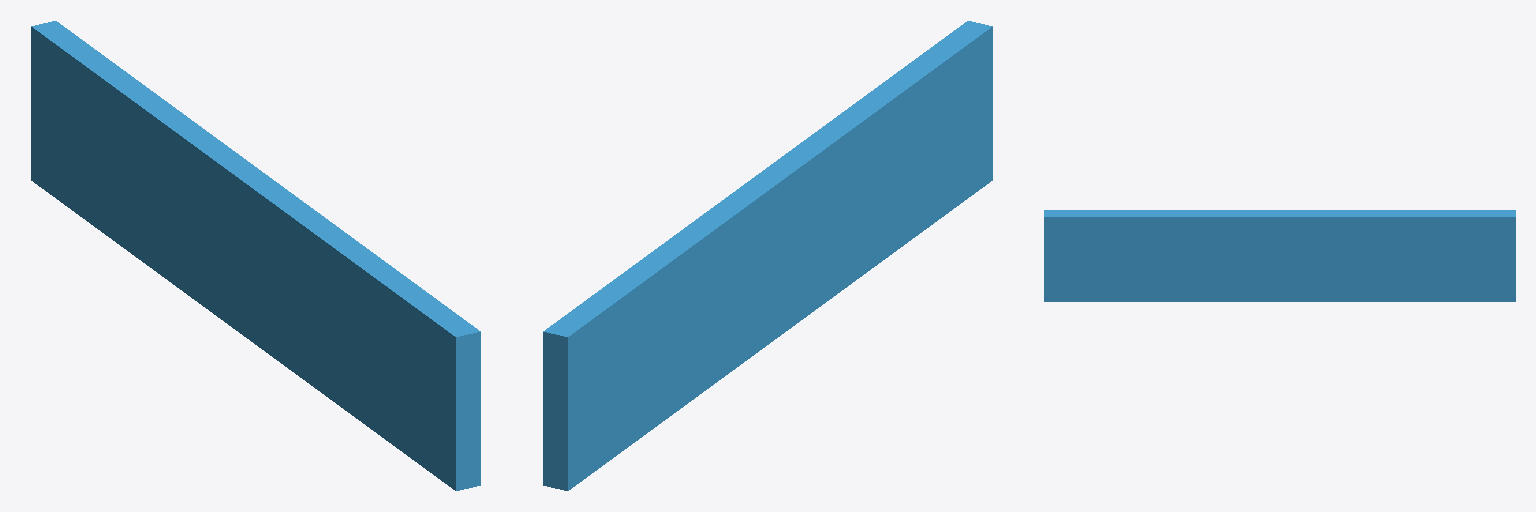
URDF robot description (box):
<?xml version="1.0" ?>

<robot name="box">
<link name="box">    
  <fem>
    <origin rpy="0.0 0.0 0.0" xyz="0 0 0" />
    <density value="100" />
    <youngs value="100.0"/>
    <poissons value="0.45" />
    <damping value="0.0" />
    <attachDistance value="0.0" />
    <tetmesh filename="box.tet" />
    <!-- <scale value="0.7"/> -->
  </fem>
</link>
<link name="fix_frame">
  <visual>
    <origin xyz="-10.07 0.0 0.0"/>
    <geometry>
      <box size="0.005 0.15 0.03"/>
    </geometry>
  </visual>
  <collision>
    <origin xyz="-0.07 0.0 0.0"/>
    <geometry>
      <box size="0.005 0.15 0.03"/>
    </geometry>
  </collision>
  <inertial>
    <mass value="500000"/>
    <inertia ixx="0.05" ixy="0.0" ixz="0.0" iyy="0.05" iyz="0.0" izz="0.05"/>
  </inertial>
</link>

<joint name = "attach" type = "fixed">
  <origin xyz = "0.0 0.0 0.0" rpy = "0 0 0"/>
  <parent link ="box"/>
  <child link = "fix_frame"/>
</joint>  
</robot>

--- Facts derived from the render (not from the file) ---
3 views of the same robot in one strip: view 1: azimuth 30°, elevation 25°; view 2: azimuth 150°, elevation 25°; view 3: azimuth 270°, elevation 25° (orthographic).
Robot: box — 2 links, 1 joints (1 fixed); root link box; default pose: all joints at 0.
Links seen in each view (by area): view 1: fix_frame; view 2: fix_frame; view 3: fix_frame.
Boxes of the visible links, box(x1,y1,x2,y2) form: fix_frame: box(31, 21, 480, 490); fix_frame: box(543, 21, 992, 490); fix_frame: box(1044, 210, 1515, 301).
Bounding box of the posed robot: 0.005 × 0.15 × 0.03 m (x, y, z).
Geometry: primitives only (box / cylinder / sphere), no mesh files.